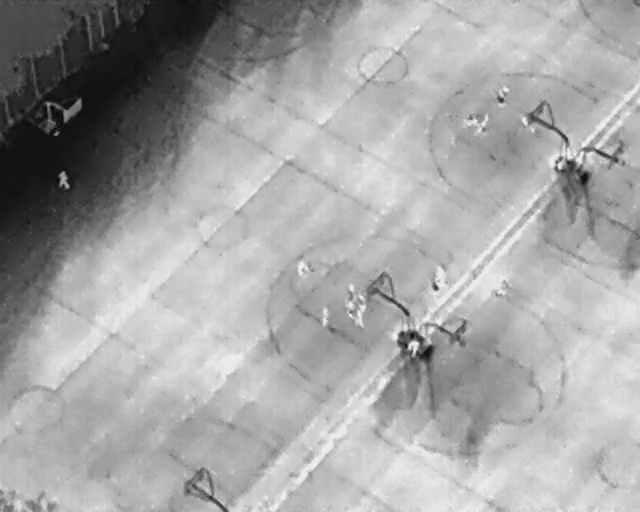Person: (470, 111, 494, 141), (493, 82, 512, 109), (403, 336, 423, 358), (548, 151, 567, 173), (296, 256, 311, 278), (434, 264, 448, 286), (345, 283, 357, 304), (57, 171, 70, 190), (320, 306, 330, 329), (464, 114, 480, 127), (345, 303, 357, 319), (354, 309, 364, 328), (357, 296, 367, 314)
